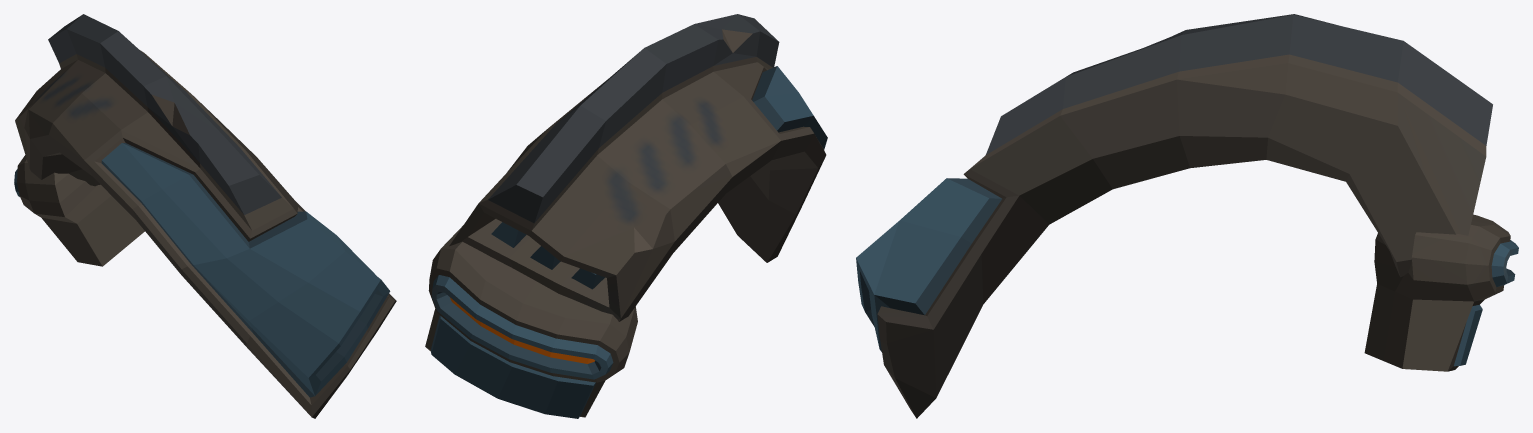
File: SM_Mech_Chest_01_Armor_Collar_07.fbx
The picture shows the model from 3 angles, left to right: view 1: azimuth 30°, elevation 25°; view 2: azimuth 150°, elevation 25°; view 3: azimuth 270°, elevation 25°; orthographic projection. The views are drawn at different scales.
Parts seen in each view (by area): view 1: SM_Mech_Chest_01_Armor_Collar_07; view 2: SM_Mech_Chest_01_Armor_Collar_07; view 3: SM_Mech_Chest_01_Armor_Collar_07.
Part boxes in pixels (x1,y1,x2,y2): SM_Mech_Chest_01_Armor_Collar_07: [14, 14, 396, 418]; SM_Mech_Chest_01_Armor_Collar_07: [425, 14, 827, 418]; SM_Mech_Chest_01_Armor_Collar_07: [856, 14, 1518, 418].
Bounding box in the file's own units: 47.2 × 66.87 × 108.
